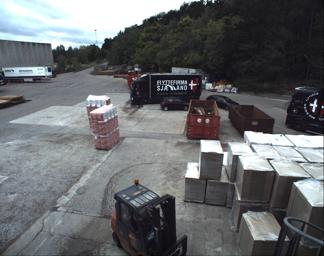rockwool_batts: (89, 104, 118, 151), (86, 94, 111, 124)
